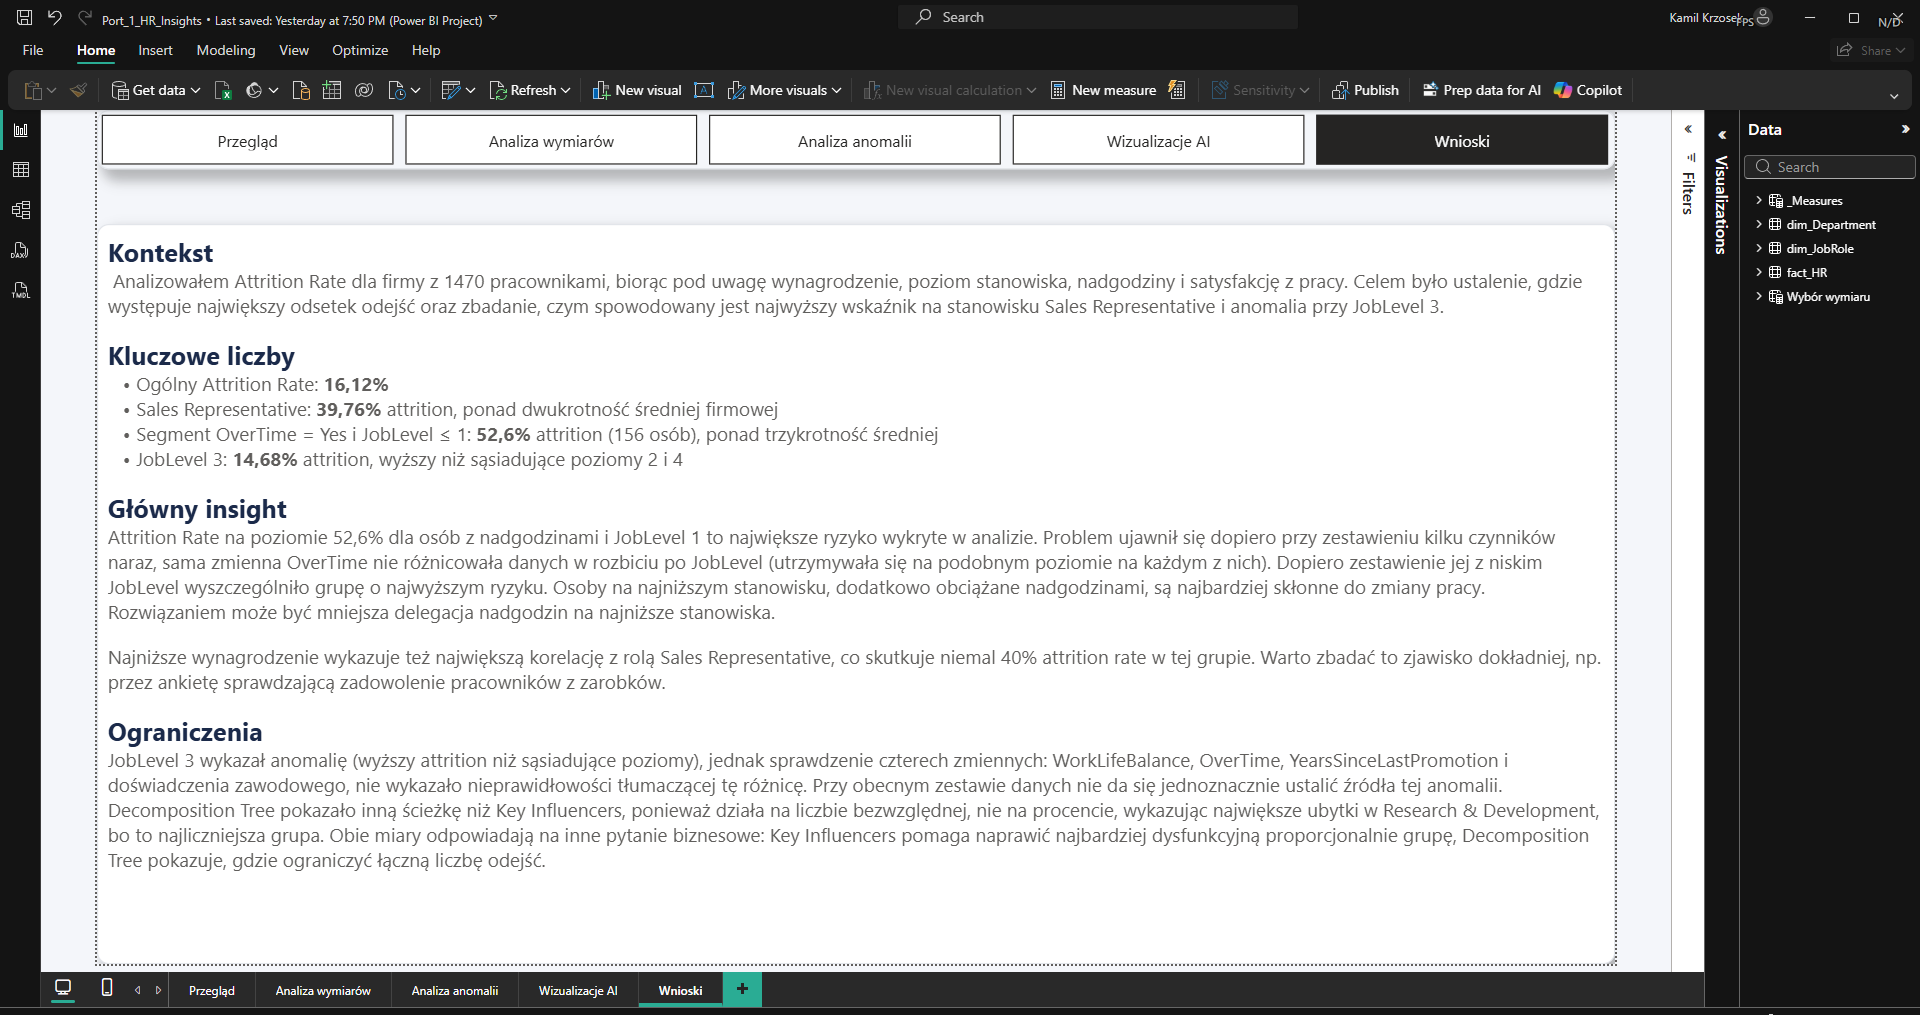

The page's visual inventory and layout, read from the dashboard file:
{"tool":"powerbi","page":{"name":"Wnioski","canvas":[1280,720],"ordinal":4},"visuals":[{"type":"textbox","box":[0,96.4,1280,623.9],"z":0},{"type":"pageNavigator","box":[0,0,1280,50.1],"z":1}]}

Visuals, with their boxes on the page's 1280x720 design canvas (x1, y1, x2, y2). These are canvas units, not pixel positions in the 1920x1015 screenshot, which may show the page scaled, cropped or inside an application window:
textbox: x1=0 y1=96 x2=1280 y2=720
pageNavigator: x1=0 y1=0 x2=1280 y2=50
